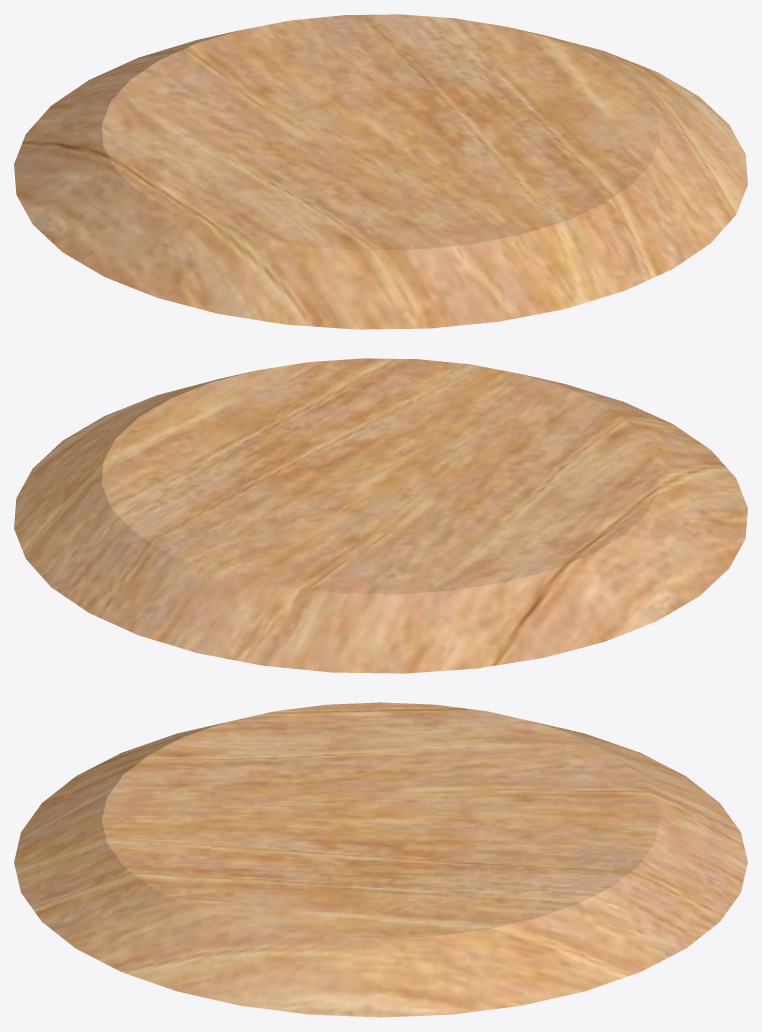
File: LazySusan.glb
The picture shows the model from 3 angles, top to bottom: view 1: azimuth 30°, elevation 25°; view 2: azimuth 150°, elevation 25°; view 3: azimuth 270°, elevation 25°; orthographic projection.
Parts seen in each view (by area): view 1: Cylinder-col; view 2: Cylinder-col; view 3: Cylinder-col.
Boxes of the visible parts, <box> form: Cylinder-col: <box>14,14,747,329</box>; Cylinder-col: <box>14,358,747,673</box>; Cylinder-col: <box>14,702,747,1017</box>.
Size of the model in its own units: 6 by 0.3794 by 6.
1 material, 1 textured.
